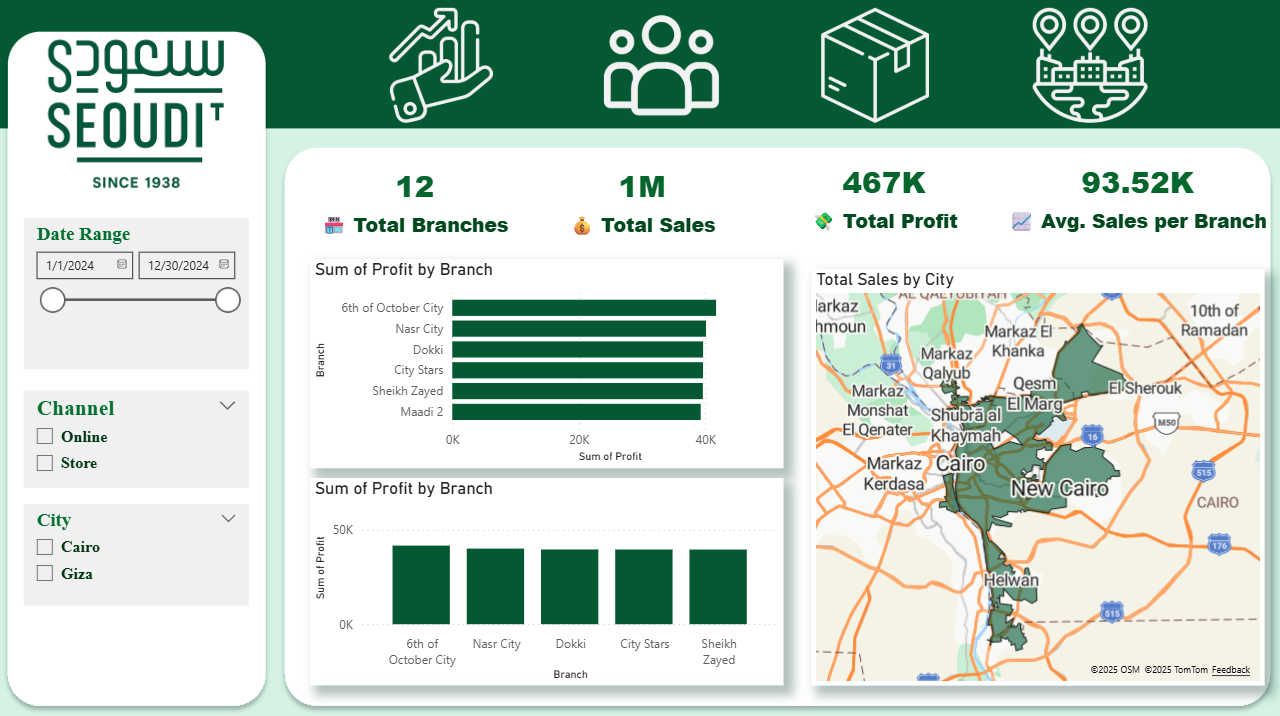

The page's visual inventory and layout, read from the dashboard file:
{"tool":"powerbi","page":{"name":"Branch  Insights","canvas":[1280,720],"ordinal":4},"visuals":[{"type":"image","box":[385.6,10,126.9,124.4],"z":0},{"type":"image","box":[599.2,10,126.9,124.4],"z":1000},{"type":"image","box":[812.7,10,126.9,124.4],"z":2000},{"type":"image","box":[1026.3,10,126.9,124.4],"z":3000},{"type":"image","box":[32.3,2.5,251.3,250],"z":4000},{"type":"card","fields":{"Values":["Count(Branches.Branch)"]},"box":[313.5,159.2,209,93.3],"z":5000},{"type":"card","fields":{"Values":["Sum(Orders.Sales)"]},"box":[532.4,159.2,223.9,93.3],"z":6000},{"type":"card","fields":{"Values":["Sum(Orders.Profit)"]},"box":[766.3,151.8,237.6,100.8],"z":7000},{"type":"card","fields":{"Values":["Branches.Avg. Sales per Branch"]},"box":[995.2,151.8,284.9,100.8],"z":8000},{"type":"barChart","fields":{"Category":["Branches.Branch"],"Y":["Sum(Orders.Profit)"]},"box":[313.5,265,471.5,217.7],"z":9000},{"type":"clusteredColumnChart","fields":{"Category":["Branches.Branch"],"Y":["Sum(Orders.Profit)"]},"box":[313.5,482.7,471.5,218.9],"z":10000},{"type":"azureMap","fields":{"Category":["Orders.City"],"X":["Products.Total Sales"]},"box":[812.3,274.9,451.6,414.2],"z":10001},{"type":"slicer","fields":{"Values":["Orders.OrderDate"]},"box":[42.3,223.9,241.3,150.5],"z":10002},{"type":"slicer","fields":{"Values":["Orders.Channel"]},"box":[42.3,395,241.3,97],"z":10003},{"type":"slicer","fields":{"Values":["Customers.City"]},"box":[42.3,512.5,241.3,100.8],"z":10004}]}

Visuals, with their boxes in screenshot pixels (x1, y1, x2, y2), scaled from the page's 1280x720 canvas onto the 1280x716 screenshot:
image: l=386, t=10, r=512, b=134
image: l=599, t=10, r=726, b=134
image: l=813, t=10, r=940, b=134
image: l=1026, t=10, r=1153, b=134
image: l=32, t=2, r=284, b=251
card - Count(Branches.Branch): l=314, t=158, r=522, b=251
card - Sum(Orders.Sales): l=532, t=158, r=756, b=251
card - Sum(Orders.Profit): l=766, t=151, r=1004, b=251
card - Branches.Avg. Sales per Branch: l=995, t=151, r=1279, b=251
barChart - Branches.Branch x Sum(Orders.Profit): l=314, t=264, r=785, b=480
clusteredColumnChart - Branches.Branch x Sum(Orders.Profit): l=314, t=480, r=785, b=698
azureMap - Orders.City x Products.Total Sales: l=812, t=273, r=1264, b=685
slicer - Orders.OrderDate: l=42, t=223, r=284, b=372
slicer - Orders.Channel: l=42, t=393, r=284, b=489
slicer - Customers.City: l=42, t=510, r=284, b=610
